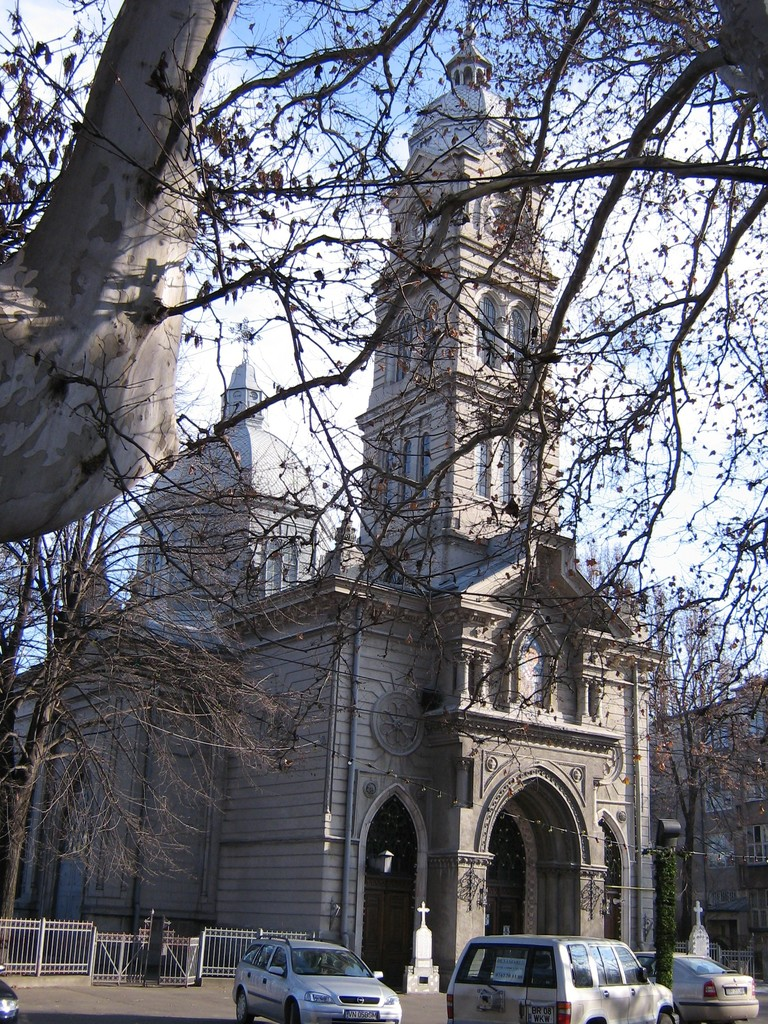Car: (447, 936, 680, 1023), (227, 940, 402, 1023), (636, 950, 760, 1022), (0, 964, 17, 1023)
